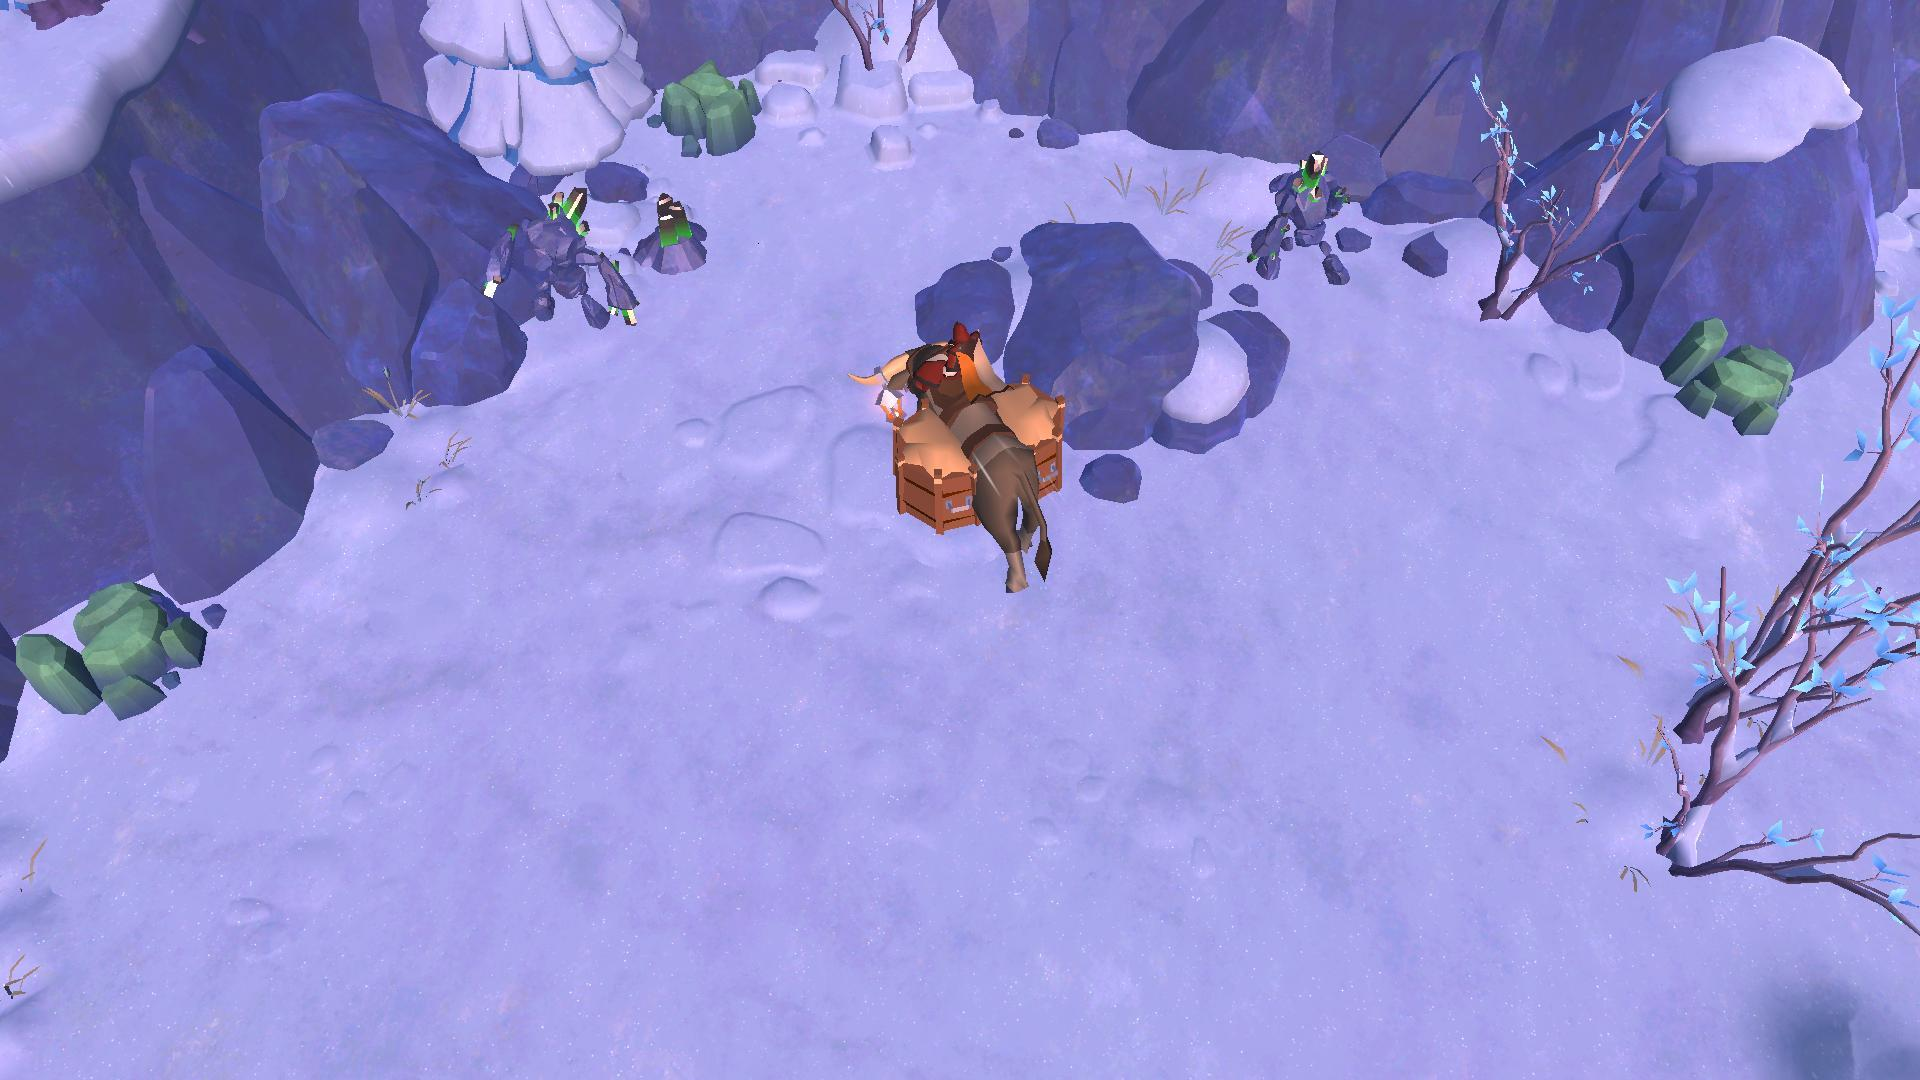ore_t3: (642, 190, 691, 252)
rock_t3: (3, 568, 229, 728), (1658, 303, 1805, 446), (645, 53, 770, 162)
